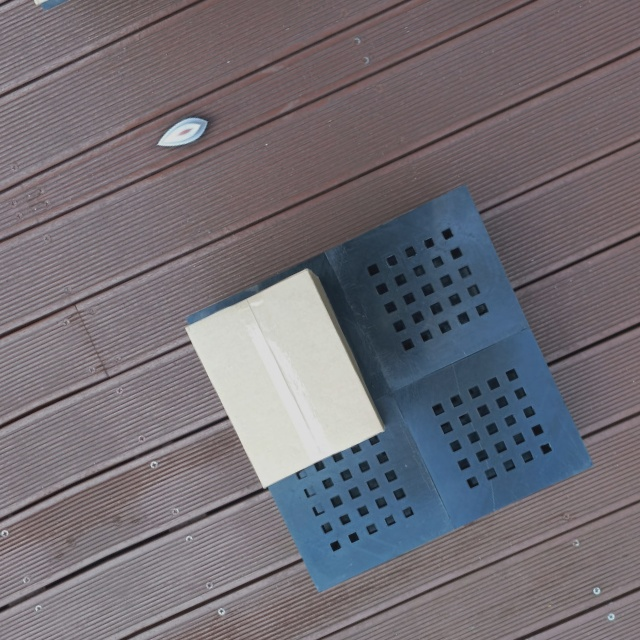box: (179, 264, 386, 494)
pallet: (182, 179, 593, 604)
